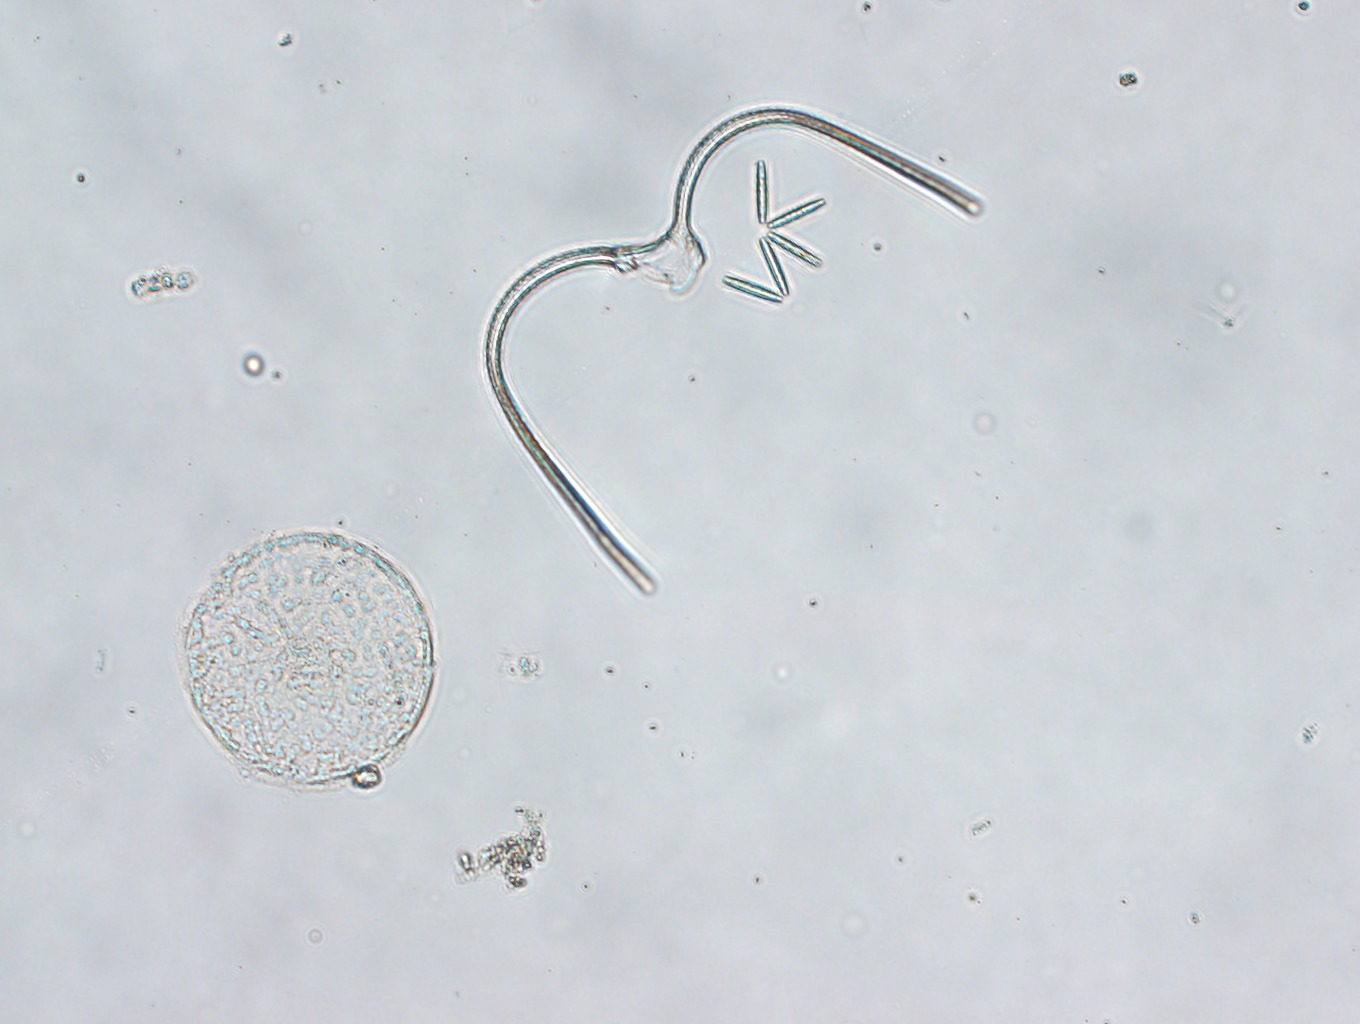ceratium trichoceros: (483, 102, 989, 596)
coscinodiscus: (180, 531, 438, 787)
thalassionema nitzschioides: (720, 159, 827, 308)
